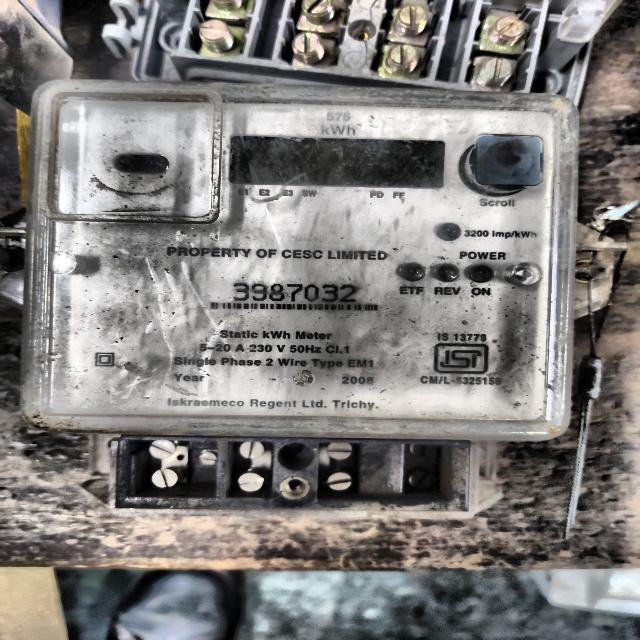Digital: (19, 76, 564, 507)
Reading: (233, 143, 445, 184)
Serial No.: (230, 281, 364, 302)
